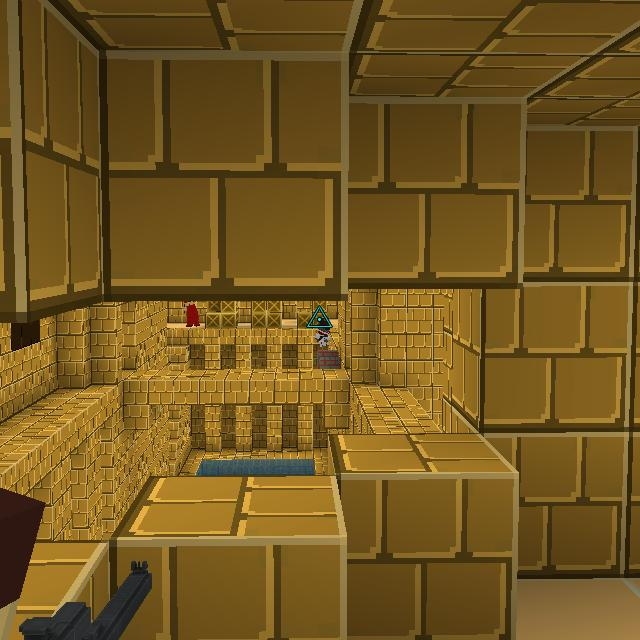enemy: (182, 301, 201, 327)
